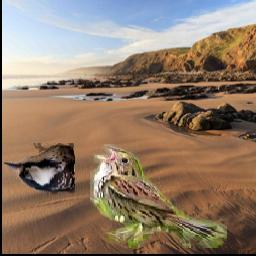Sparrow: (91, 145, 228, 249)
Woodpecker: (5, 144, 76, 196)
